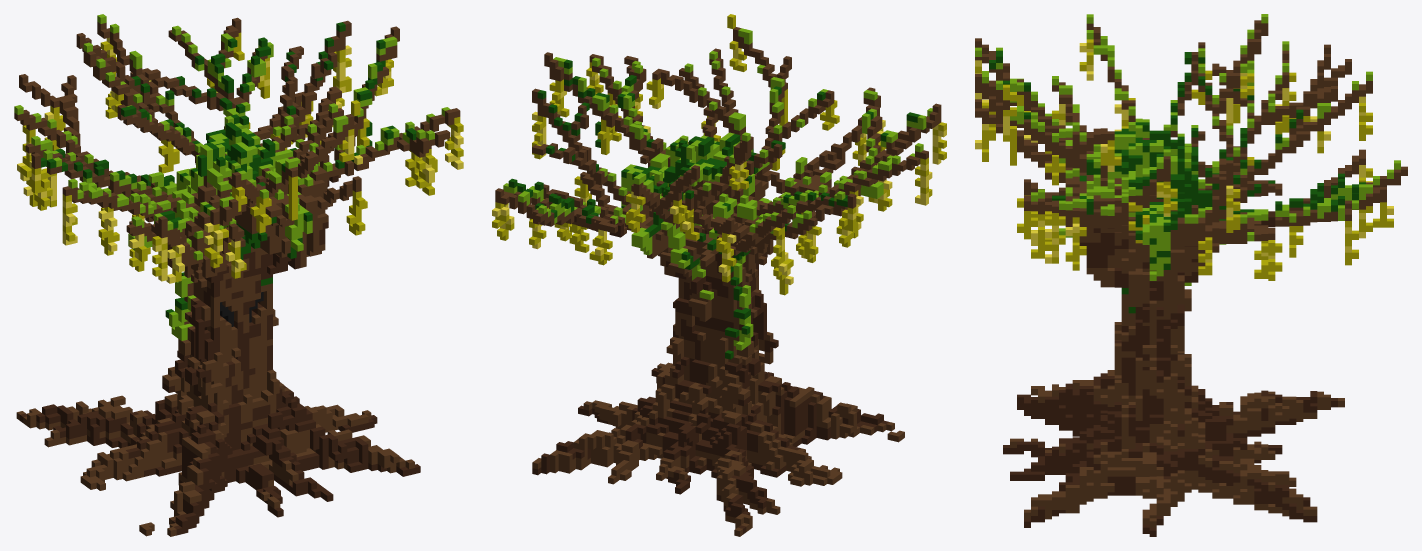
The model's file is Andres_Felipe_Morales_Domínguez_fase_4.obj.
3 views of the same model, side by side, from view 1: azimuth 30°, elevation 25°; view 2: azimuth 150°, elevation 25°; view 3: azimuth 270°, elevation 25° (orthographic). The views are drawn at different scales.
Parts seen in each view (by area): view 1: Andres_Felipe_Morales_Domínguez_fase_4; view 2: Andres_Felipe_Morales_Domínguez_fase_4; view 3: Andres_Felipe_Morales_Domínguez_fase_4.
Boxes of the visible parts, x1,y1,x2,y2 form: Andres_Felipe_Morales_Domínguez_fase_4: (14, 14, 463, 536); Andres_Felipe_Morales_Domínguez_fase_4: (492, 14, 946, 536); Andres_Felipe_Morales_Domínguez_fase_4: (975, 14, 1407, 536).
Size of the model in its own units: 64 by 64 by 62.
Materials: 1 (1 with a texture image).
